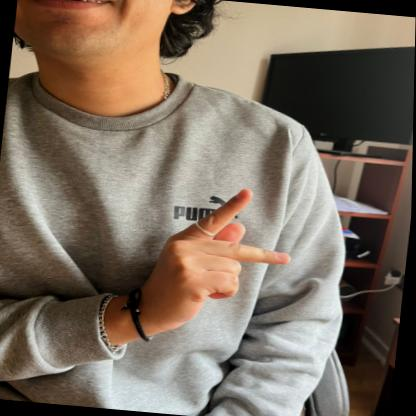K: (143, 176, 302, 344)
